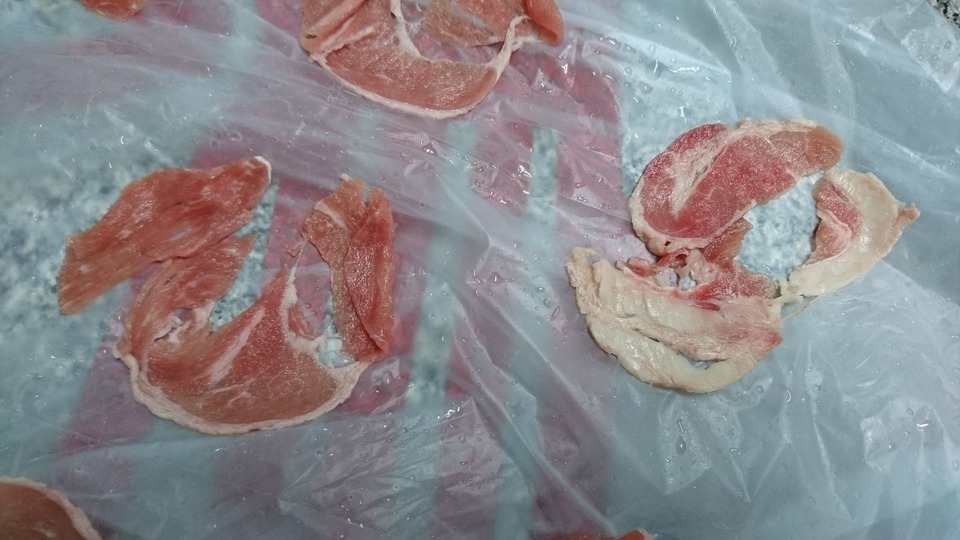restructured meat: (567, 121, 914, 404), (63, 148, 410, 431)
